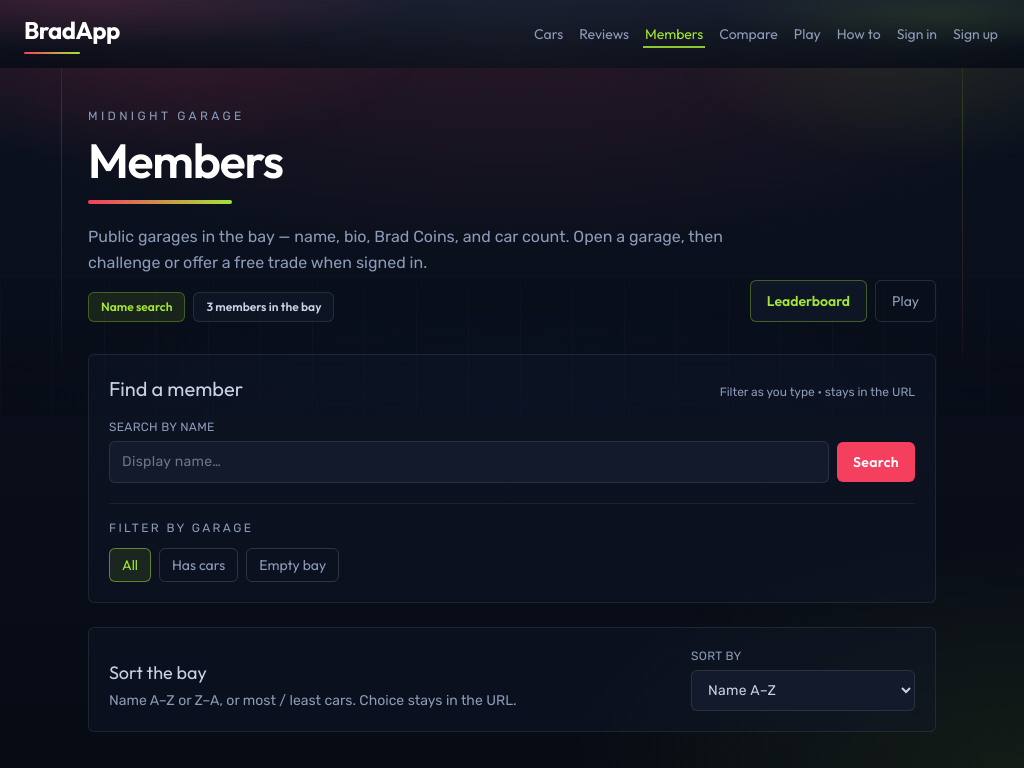
Test: MembersPage Midnight Garage UI › shows bay hierarchy, directory, and name search
The image size is (1024, 768).
Expected: the heading "Members" is shown, [88,130,283,190]
Expected: the text "Midnight garage" is shown, [88,109,245,123]
Step 1. Type "Sam" into the search field named "Search members by display name" → (469, 462), box [109,441,829,483]
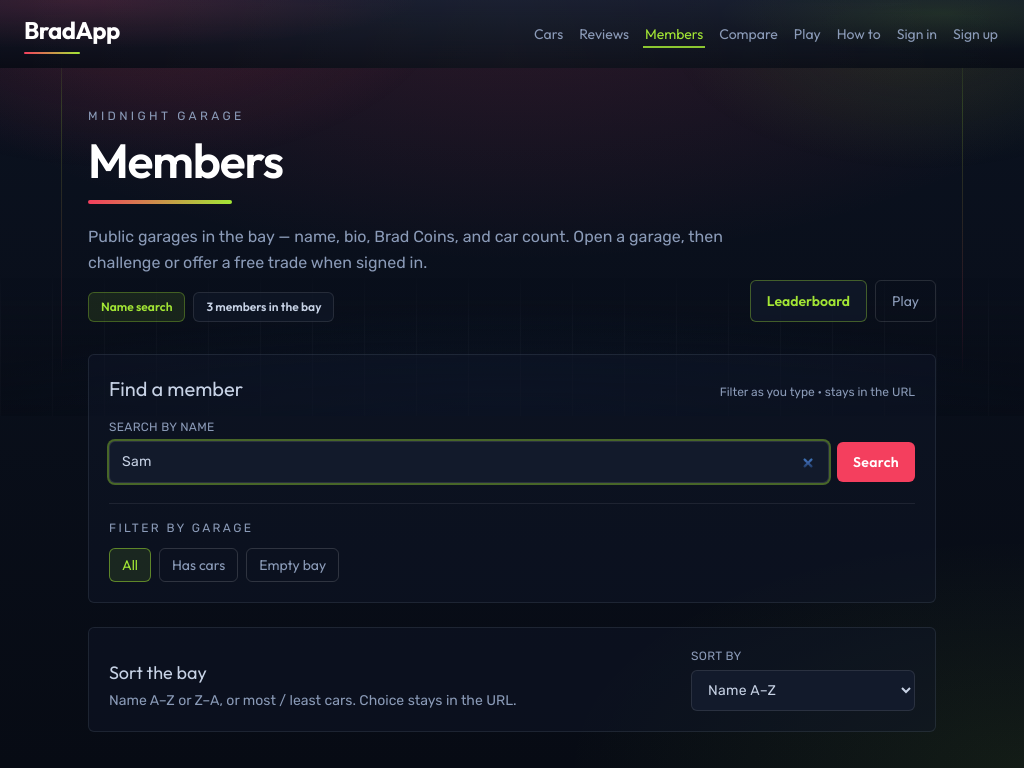
Step 2. Click the button "Search" → (876, 462), box [837,442,915,482]
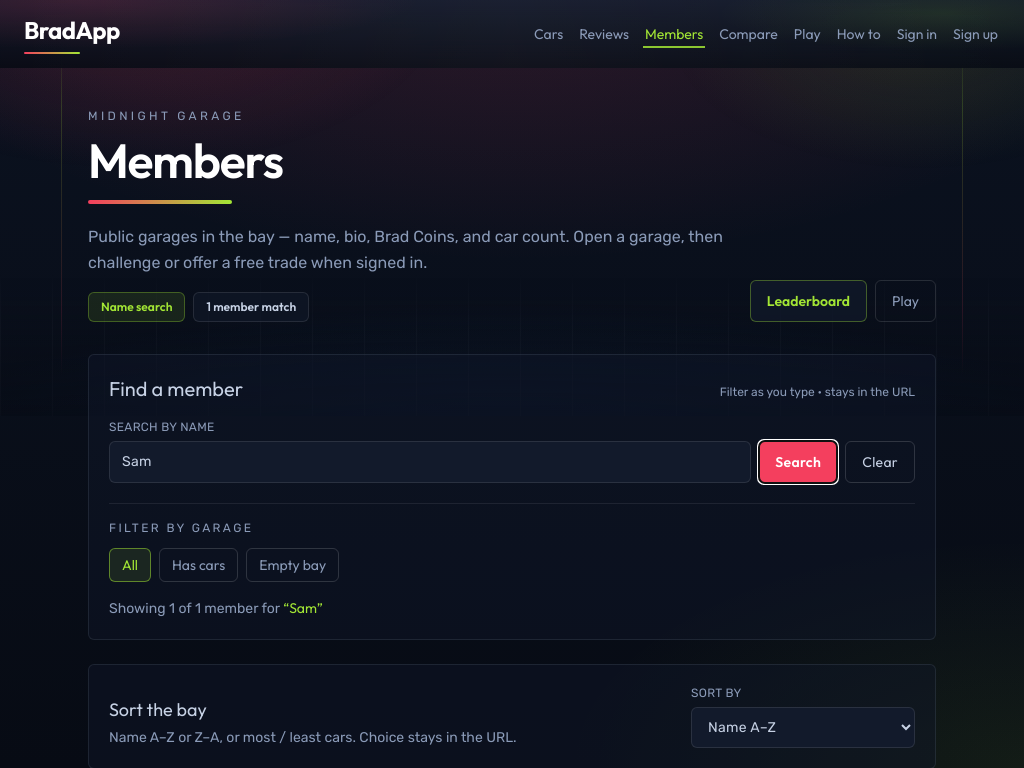
Expected: the text "Showing 1 of 1 member for “Sam”" is shown, [109,599,323,617]
